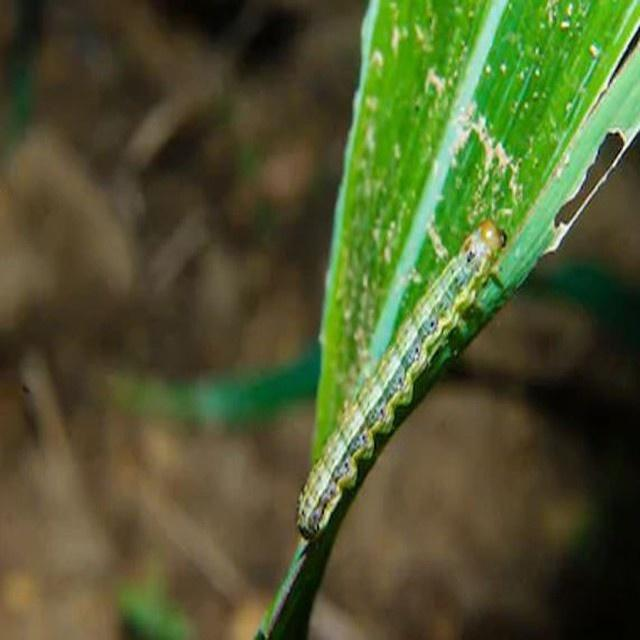Plaga: (303, 221, 513, 531)
